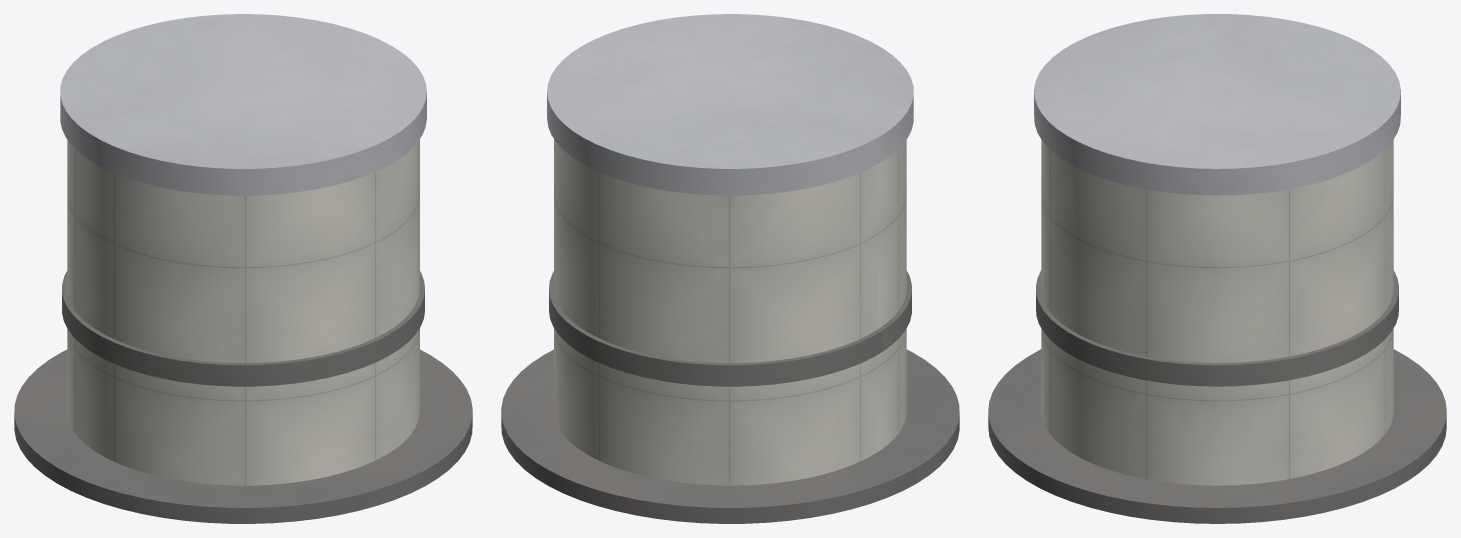
Rendered from stage08_main_chute_s.glb.
3 renders of one model, left to right at view 1: azimuth 30°, elevation 25°; view 2: azimuth 150°, elevation 25°; view 3: azimuth 270°, elevation 25°, orthographic.
Visible parts, largest first — view 1: canister, lid, base_flange, band; view 2: canister, lid, base_flange, band; view 3: canister, lid, base_flange, band.
Part boxes in pixels (x1=…): canister: x1=67, y1=139, x2=419, y2=485; lid: x1=60, y1=14, x2=426, y2=195; base_flange: x1=14, y1=349, x2=472, y2=523; band: x1=62, y1=271, x2=424, y2=386; canister: x1=554, y1=139, x2=906, y2=485; lid: x1=547, y1=14, x2=913, y2=195; base_flange: x1=501, y1=349, x2=959, y2=523; band: x1=549, y1=271, x2=911, y2=386; canister: x1=1041, y1=140, x2=1393, y2=485; lid: x1=1034, y1=14, x2=1400, y2=195; base_flange: x1=988, y1=349, x2=1446, y2=523; band: x1=1036, y1=270, x2=1398, y2=386.
Size of the model in its own units: 0.78 by 0.63 by 0.78.
3 materials, 3 textured.
